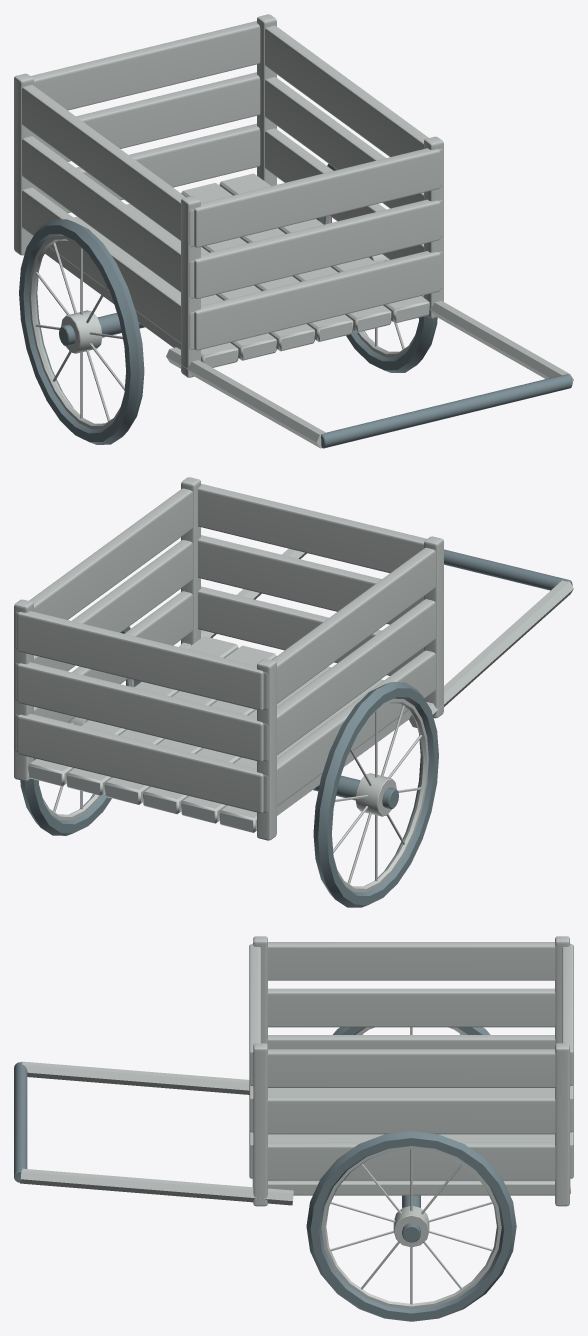
File: wooden-cart.glb
3 renders of one model, top to bottom at view 1: azimuth 30°, elevation 25°; view 2: azimuth 150°, elevation 25°; view 3: azimuth 270°, elevation 25°, orthographic. The views are drawn at different scales.
Visible parts, largest first — view 1: end_board.003, end_board.005, end_board.004, end_board.002, cart_wheel_tire, side_board.002, side_board.001, end_board.001, side_board.005, side_board, end_board, side_board.004 (+18 smaller); view 2: end_board.001, end_board.002, end_board, end_board.005, cart_wheel_tire, side_board.002, side_board.001, end_board.004, side_board.005, side_board, end_board.003, side_board.004 (+17 smaller); view 3: side_board.004, side_board.001, side_board.005, side_board.002, side_board.003, cart_wheel_tire.001, side_board, pull_shaft.001, cart_floor5, pull_shaft, cart_wheel_rim.001, corner_post.002 (+10 smaller).
Boxes of the visible parts, box(x1,y1,x2,y2) form: end_board.003: box(194, 251, 440, 350); end_board.005: box(194, 148, 440, 247); end_board.004: box(194, 199, 440, 298); end_board.002: box(31, 21, 260, 110); cart_wheel_tire: box(19, 219, 144, 444); side_board.002: box(22, 85, 194, 247); side_board.001: box(22, 136, 194, 298); end_board.001: box(34, 72, 260, 161); side_board.005: box(265, 25, 443, 186); side_board: box(22, 187, 194, 349); end_board: box(34, 123, 260, 212); side_board.004: box(265, 77, 443, 237); end_board.001: box(17, 662, 263, 761); end_board.002: box(17, 611, 263, 710); end_board: box(17, 713, 263, 813); end_board.005: box(198, 483, 426, 573); cart_wheel_tire: box(313, 682, 438, 907); side_board.002: box(263, 547, 435, 709); side_board.001: box(263, 599, 435, 761); end_board.004: box(198, 535, 423, 624); side_board.005: box(14, 488, 192, 649); side_board: box(263, 650, 435, 812); end_board.003: box(198, 586, 423, 675); side_board.004: box(14, 540, 192, 700); side_board.004: box(252, 1095, 570, 1134); side_board.001: box(267, 988, 555, 1027); side_board.005: box(252, 1049, 570, 1087); side_board.002: box(253, 942, 570, 980); side_board.003: box(252, 1142, 570, 1180); cart_wheel_tire.001: box(306, 1131, 516, 1321); side_board: box(267, 1035, 555, 1049); pull_shaft.001: box(20, 1168, 293, 1205); cart_floor5: box(252, 1179, 570, 1195); pull_shaft: box(21, 1061, 249, 1094); cart_wheel_rim.001: box(321, 1146, 501, 1309); corner_post.002: box(555, 1043, 569, 1206).
Bounding box in the file's own units: 1.28 × 1.08 × 2.08.
